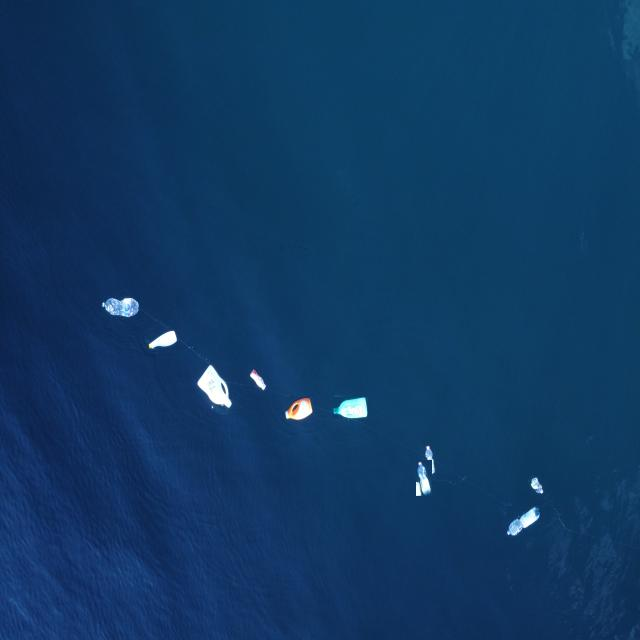bottles: (197, 364, 233, 409), (506, 506, 540, 537), (101, 296, 140, 318), (332, 397, 368, 419), (146, 328, 178, 350), (285, 397, 313, 421), (416, 460, 432, 496), (250, 368, 268, 392), (425, 446, 436, 474), (531, 476, 544, 494)
